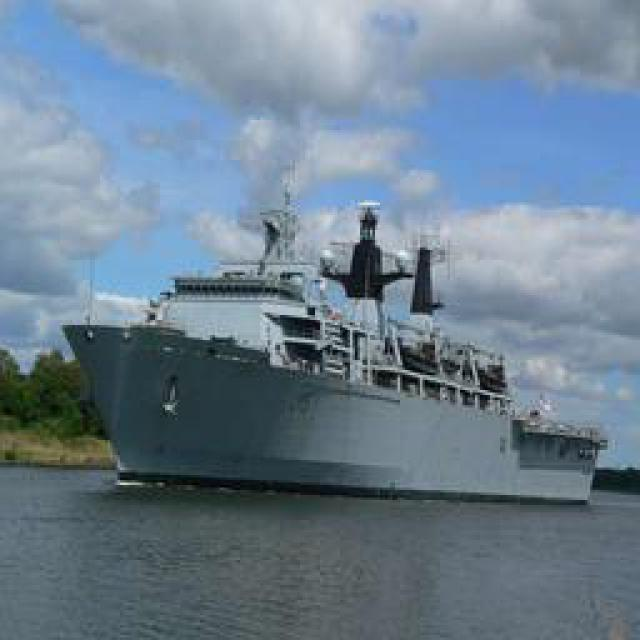Ship: (63, 204, 598, 499)
